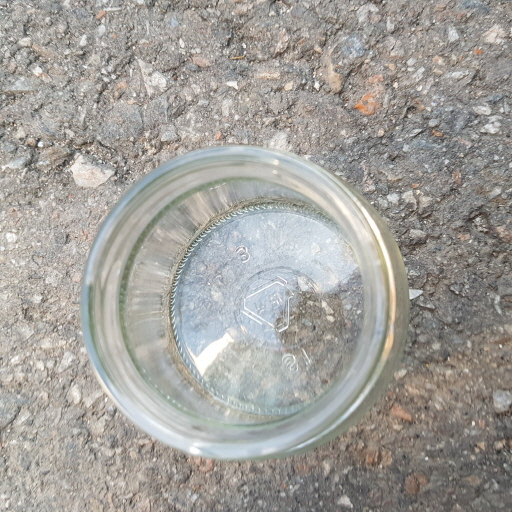Glass_5: (77, 139, 409, 456)
